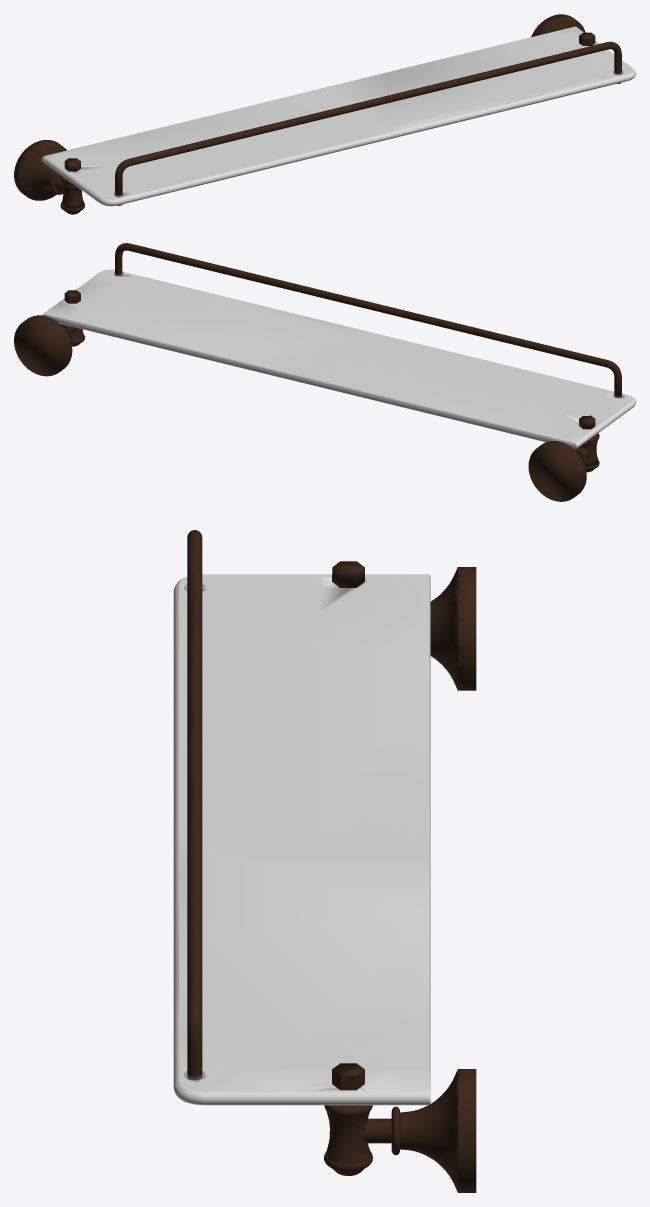
The model's file is shelf.glb.
3 views of the same model, one above another, from view 1: azimuth 30°, elevation 25°; view 2: azimuth 150°, elevation 25°; view 3: azimuth 270°, elevation 25° (orthographic). The views are drawn at different scales.
Visible parts, largest first — view 1: defaultMaterial (×2); view 2: defaultMaterial (×2); view 3: defaultMaterial (×2).
Part boxes in pixels (left/top/right/bottom): defaultMaterial (×2): left=14, top=14, right=635, bottom=214; defaultMaterial (×2): left=14, top=243, right=635, bottom=501; defaultMaterial (×2): left=173, top=530, right=476, bottom=1192.
Size of the model in its own units: 636 by 90.68 by 147.
Materials: 3 (1 with a texture image).
